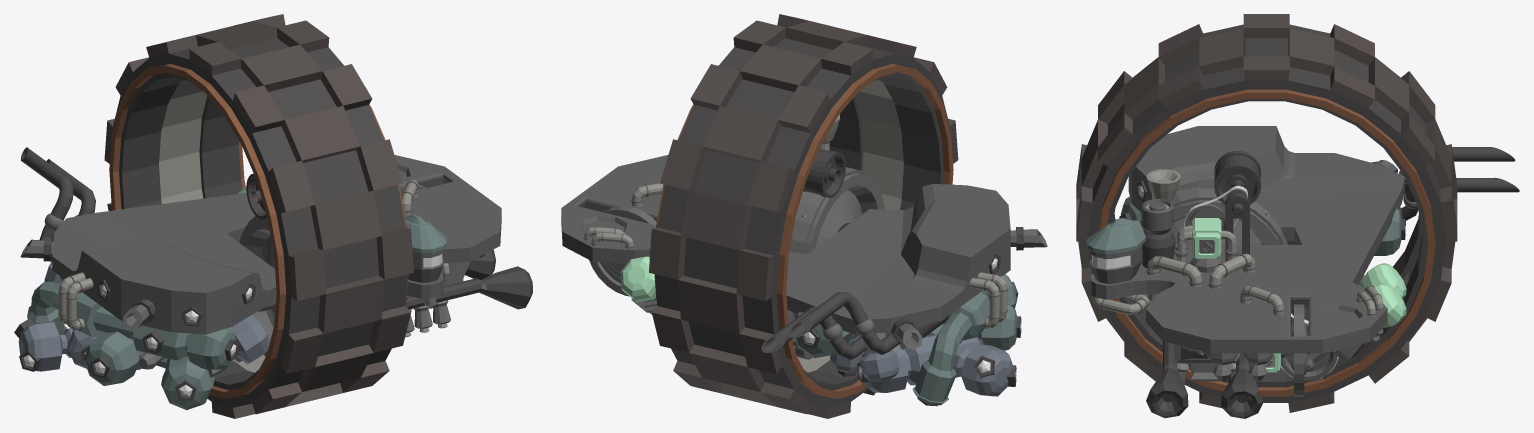
Rendered from WheelCity.fbx.
3 views of the same model, side by side, from view 1: azimuth 30°, elevation 25°; view 2: azimuth 150°, elevation 25°; view 3: azimuth 270°, elevation 25° (orthographic).
Parts seen in each view (by area): view 1: Wheel, City Floor; view 2: Wheel, City Floor; view 3: City Floor, Wheel.
Boxes of the visible parts, box(x1,y1,x2,y2) form: Wheel: box(104, 14, 413, 418); City Floor: box(14, 147, 532, 410); Wheel: box(649, 14, 958, 418); City Floor: box(561, 114, 1047, 406); City Floor: box(1086, 126, 1519, 418); Wheel: box(1076, 14, 1457, 412).
Size of the model in its own units: 4079 by 3039 by 3563.
